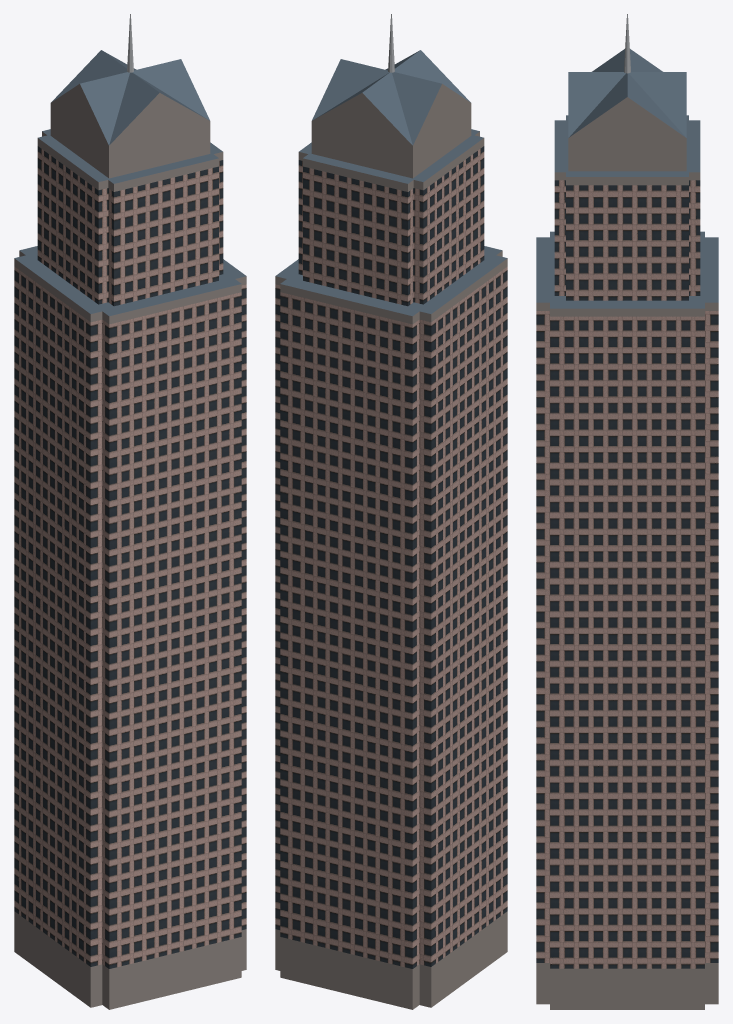
The model's file is gen_tall_pomo_granite.glb.
3 views of the same model, side by side, from view 1: azimuth 30°, elevation 25°; view 2: azimuth 150°, elevation 25°; view 3: azimuth 270°, elevation 25° (orthographic).
Parts seen in each view (by area): view 1: gen_tall_pomo_granite; view 2: gen_tall_pomo_granite; view 3: gen_tall_pomo_granite.
Part boxes in pixels (x1,y1,x2,y2): gen_tall_pomo_granite: [14, 14, 246, 1009]; gen_tall_pomo_granite: [275, 14, 507, 1009]; gen_tall_pomo_granite: [536, 14, 718, 1009].
Bounding box in the file's own units: 40 × 232 × 40.
2 materials, 2 textured.
